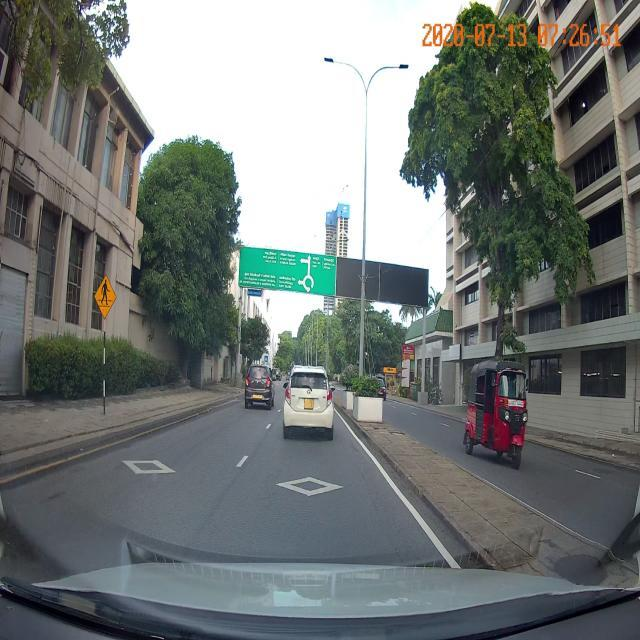diamond: (212, 460, 424, 517)
